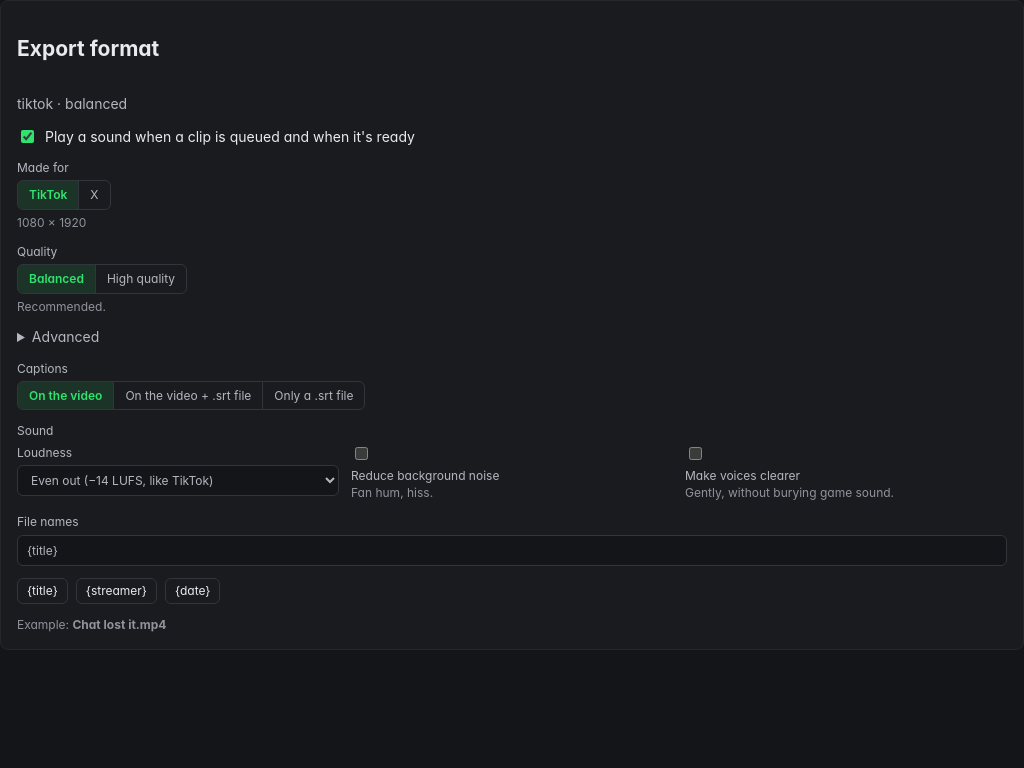
Scenario: Export format › picks a preset and a quality, with their notes
Click the radio button labelled "X" at x=94, y=195, box [78,181,110,209]
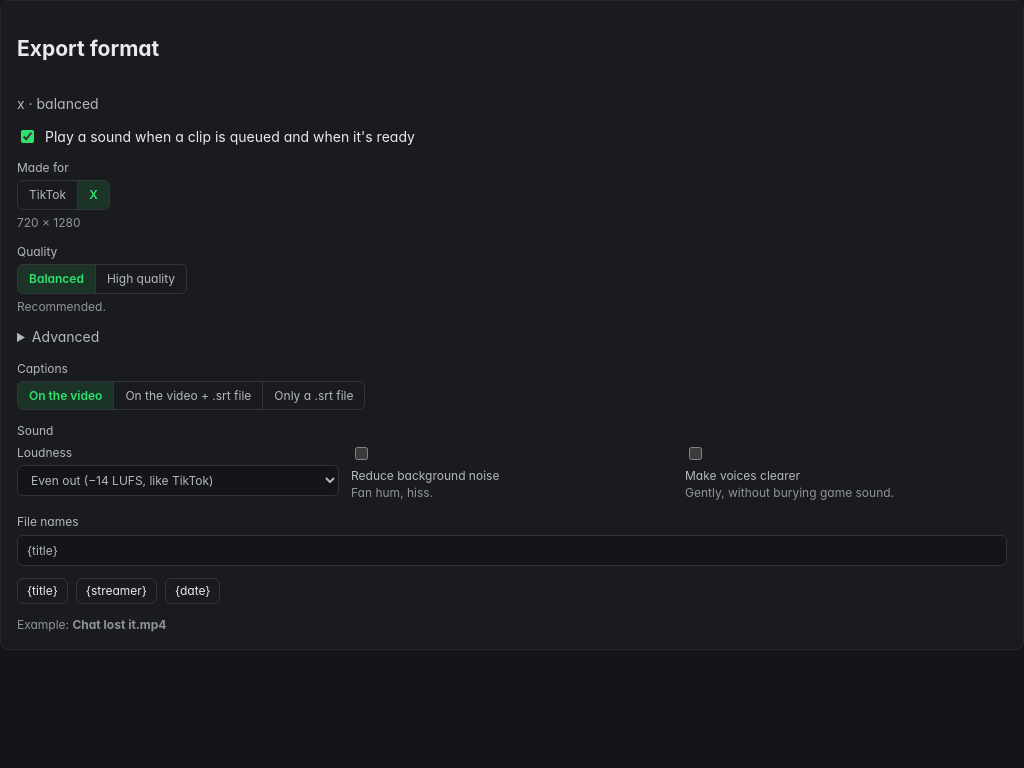
Now the text "720 × 1280" is shown, box [17,215,81,230]
Click the radio button labelled "High quality" at x=141, y=279, box [95,265,186,293]
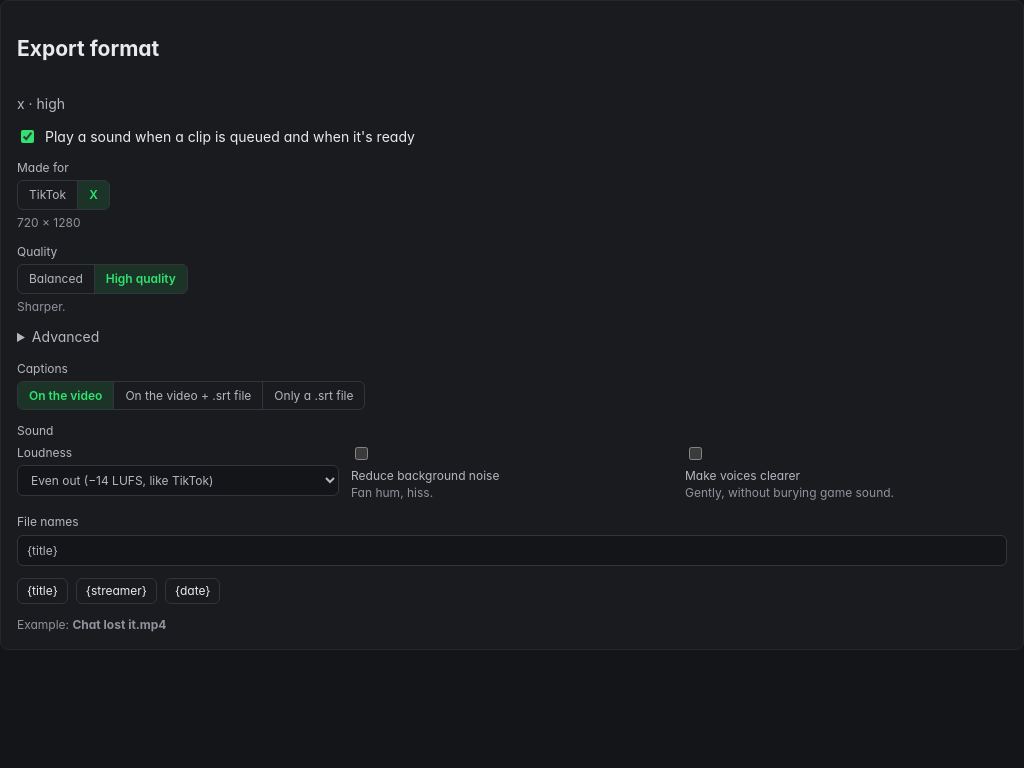
Now the text with test id "ex-describe" reads "x · high", box [17,95,65,112]
